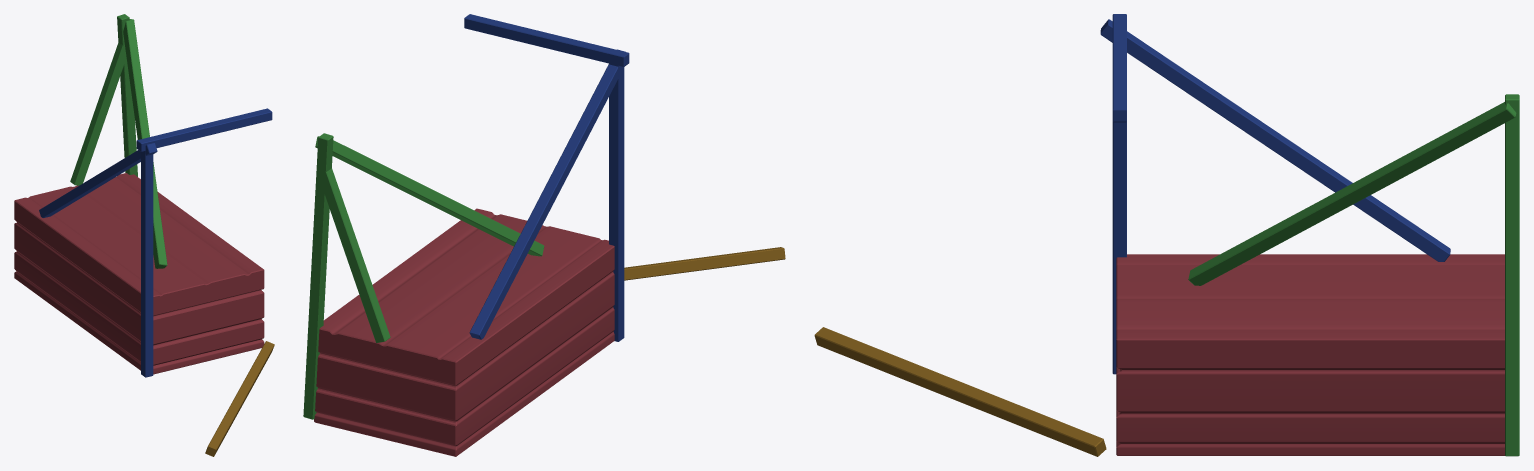
File: Textured Demolished Market Stand 1.fbx
The picture shows the model from 3 angles, left to right: view 1: azimuth 30°, elevation 25°; view 2: azimuth 150°, elevation 25°; view 3: azimuth 270°, elevation 25°; orthographic projection. The views are drawn at different scales.
Visible parts, largest first — view 1: Market_Stand_Separate, pCube5, pCube15, pCube6, pCube7, pCube8, pCube3, pCube2; view 2: Market_Stand_Separate, pCube8, pCube3, pCube5, pCube15, pCube6, pCube7, pCube2; view 3: Market_Stand_Separate, pCube15, pCube8, pCube2, pCube3, pCube5, pCube7.
Boxes of the visible parts, x1,y1,x2,y2 form: Market_Stand_Separate: (14, 173, 264, 374); pCube5: (141, 151, 153, 377); pCube15: (123, 19, 167, 268); pCube6: (70, 43, 126, 185); pCube7: (136, 108, 272, 151); pCube8: (39, 143, 157, 217); pCube3: (117, 14, 137, 176); pCube2: (205, 341, 274, 456); Market_Stand_Separate: (314, 208, 614, 456); pCube8: (469, 49, 625, 339); pCube3: (303, 133, 333, 419); pCube5: (609, 56, 624, 341); pCube15: (315, 136, 544, 256); pCube6: (318, 168, 390, 342); pCube7: (464, 14, 629, 66); pCube2: (624, 247, 785, 280); Market_Stand_Separate: (1116, 254, 1504, 455); pCube15: (1188, 102, 1516, 285); pCube8: (1100, 19, 1450, 261); pCube2: (814, 327, 1106, 456); pCube3: (1505, 94, 1519, 456); pCube5: (1112, 122, 1126, 374); pCube7: (1112, 14, 1126, 122).
Bounding box in the file's own units: 2.8 × 3.87 × 6.99.
